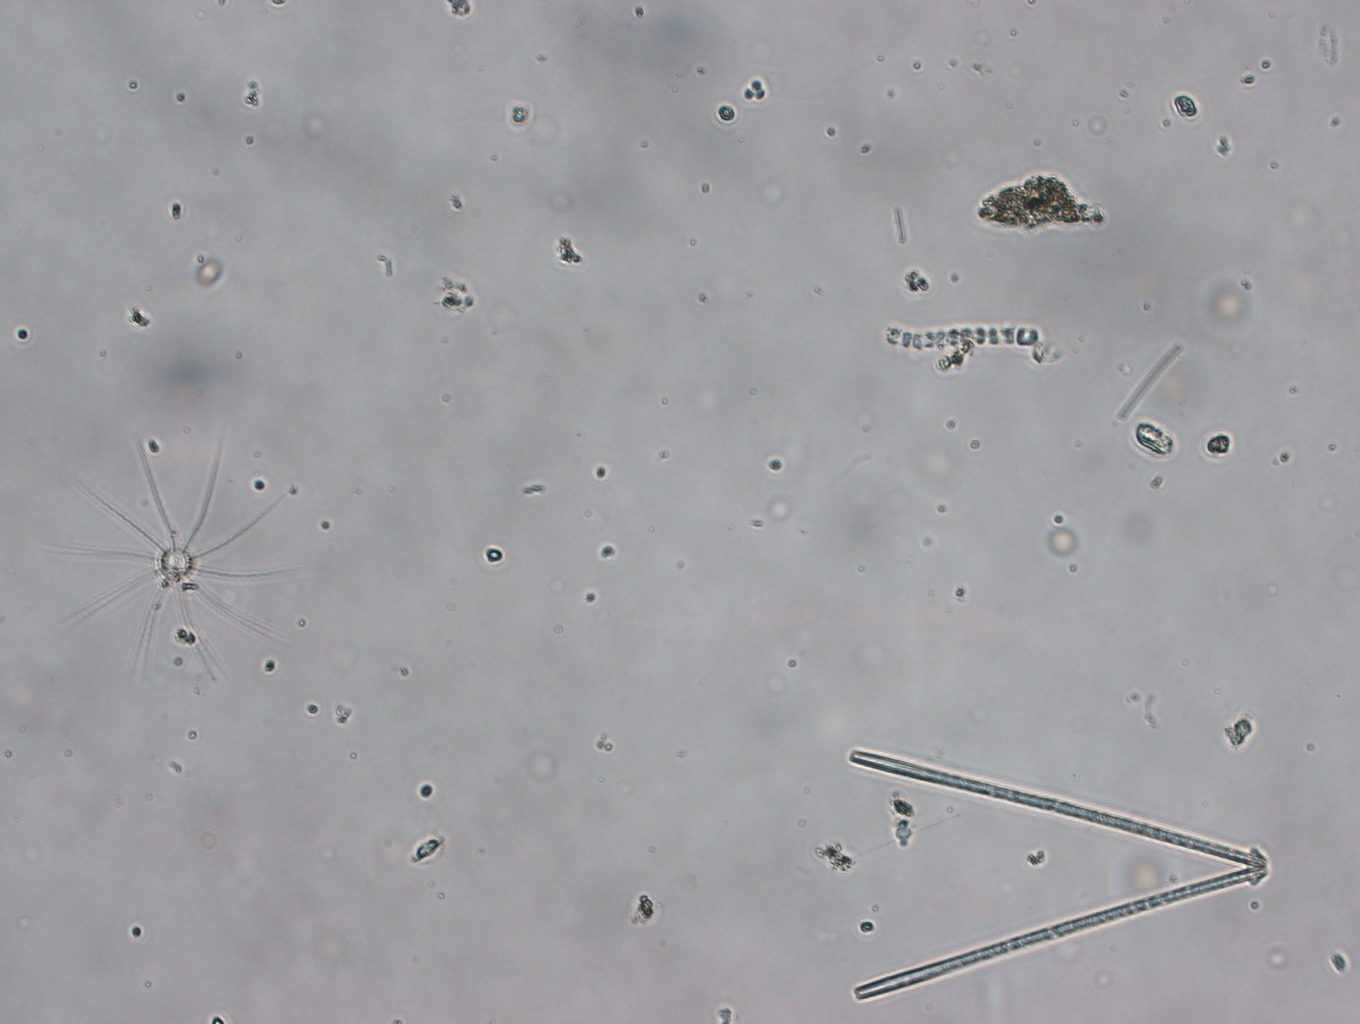bacteriastrum: (52, 435, 334, 684)
skeletonema: (851, 314, 1076, 365)
thalassionema frauenfeldii: (826, 746, 1283, 1010)
